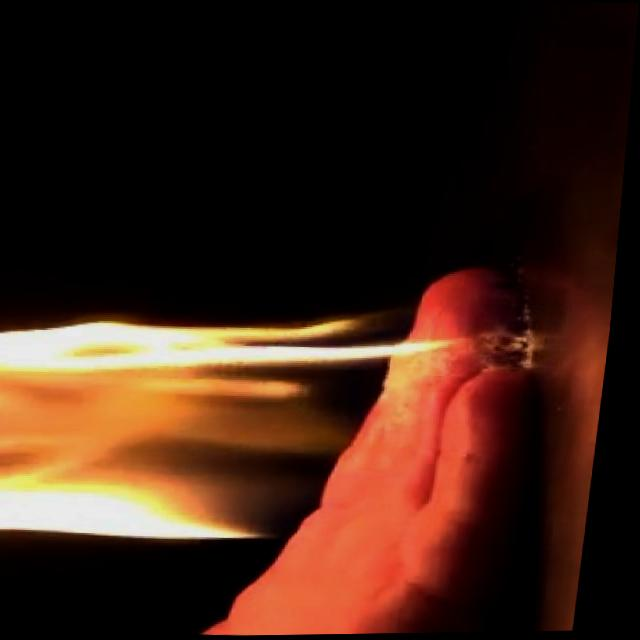helmet: (0, 291, 470, 578)
